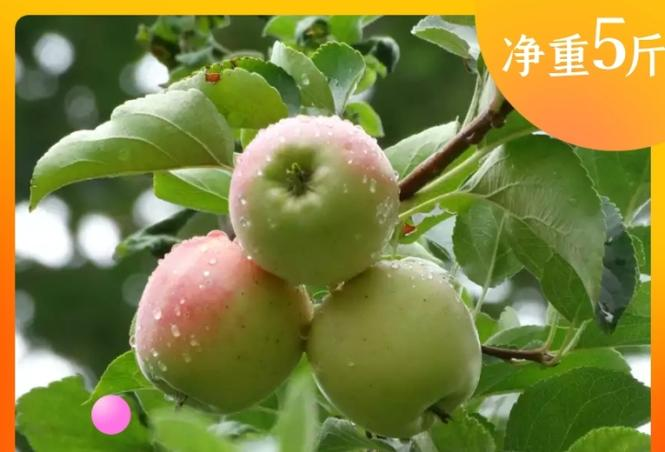unripe: (123, 226, 317, 416), (302, 256, 495, 440), (224, 110, 406, 289)
